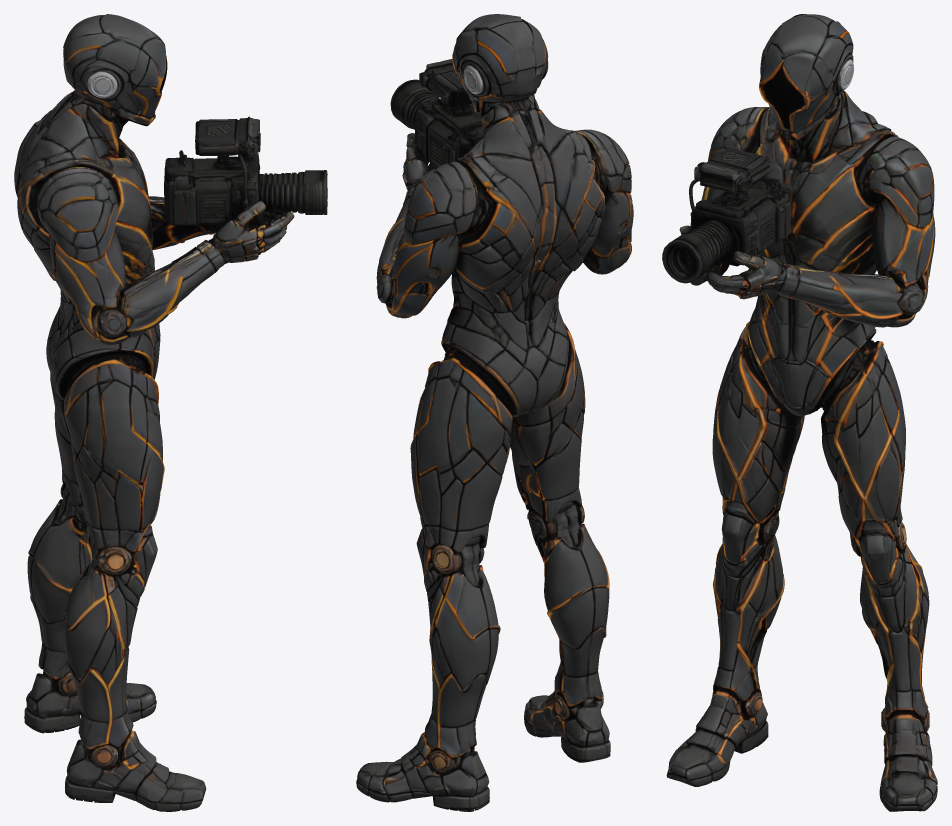
The model's file is robot-hd.glb.
The picture shows the model from 3 angles, left to right: view 1: azimuth 30°, elevation 25°; view 2: azimuth 150°, elevation 25°; view 3: azimuth 270°, elevation 25°; orthographic projection.
Visible parts, largest first — view 1: tripo_node_c093479b-0943-47e8-870f-589d47e6aa1c; view 2: tripo_node_c093479b-0943-47e8-870f-589d47e6aa1c; view 3: tripo_node_c093479b-0943-47e8-870f-589d47e6aa1c.
Boxes of the visible parts, x1,y1,x2,y2 form: tripo_node_c093479b-0943-47e8-870f-589d47e6aa1c: (14, 14, 327, 811); tripo_node_c093479b-0943-47e8-870f-589d47e6aa1c: (356, 14, 633, 811); tripo_node_c093479b-0943-47e8-870f-589d47e6aa1c: (662, 14, 937, 811).
Size of the model in its own units: 0.3555 by 0.9795 by 0.3255.
Materials: 1 (1 with a texture image).
